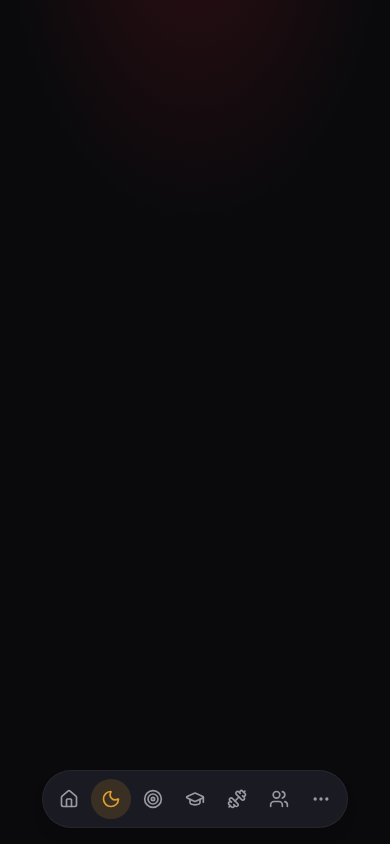
Test: MobileIsland › hiddenFeatures › also omits Insights from the More popover when hidden
Click the button named "more" at point(321, 799), box 301,779 -> 341,819
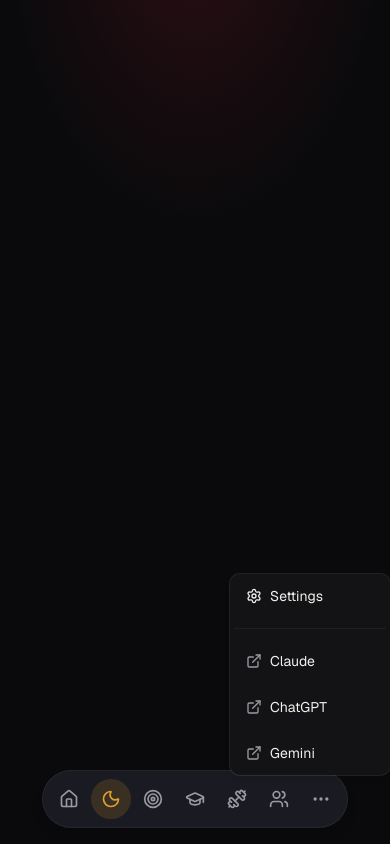
Now the link "Settings" is shown, box 246,587 -> 323,605
